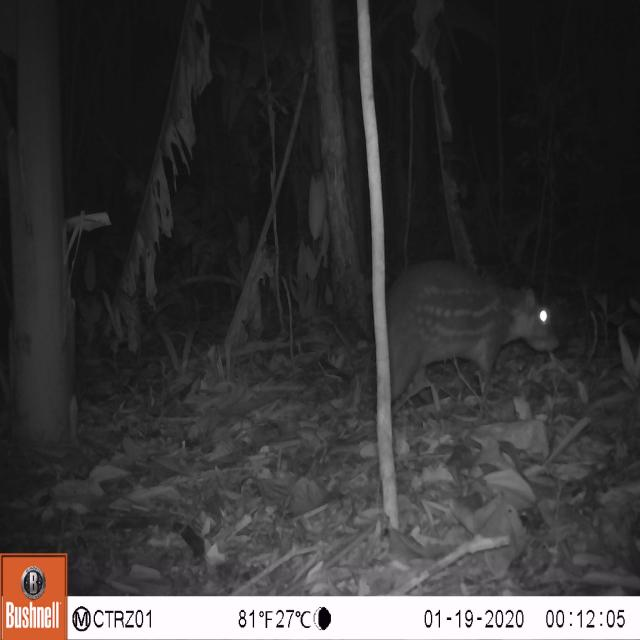Spotted Paca: (369, 243, 575, 410)
